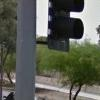Traffic light: (39, 2, 90, 58)
